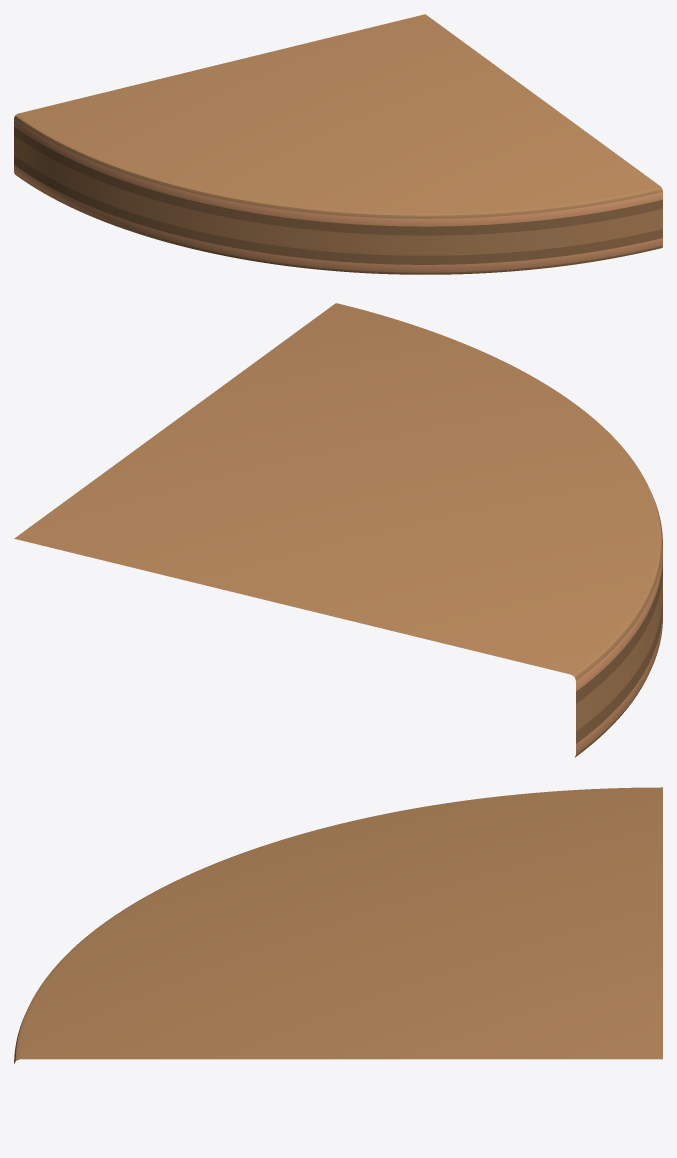
Rendered from platform_dirt_corner_round7.gltf.
The picture shows the model from 3 angles, top to bottom: view 1: azimuth 30°, elevation 25°; view 2: azimuth 150°, elevation 25°; view 3: azimuth 270°, elevation 25°; orthographic projection. The views are drawn at different scales.
Parts seen in each view (by area): view 1: Cube_Dirt_Corner_Round7; view 2: Cube_Dirt_Corner_Round7; view 3: Cube_Dirt_Corner_Round7.
Boxes of the visible parts, bbox=[...] form: Cube_Dirt_Corner_Round7: bbox=[14, 14, 662, 274]; Cube_Dirt_Corner_Round7: bbox=[14, 303, 662, 757]; Cube_Dirt_Corner_Round7: bbox=[14, 787, 662, 1063].
Size of the model in its own units: 14 by 2 by 14.
